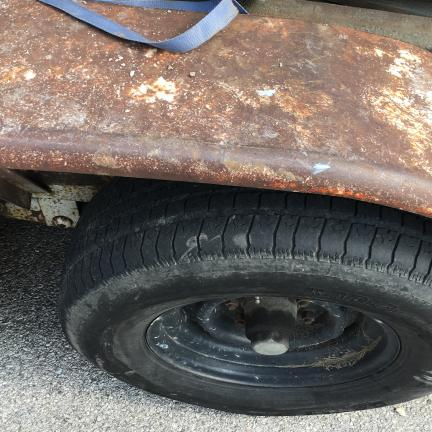karat: (1, 0, 432, 218)
